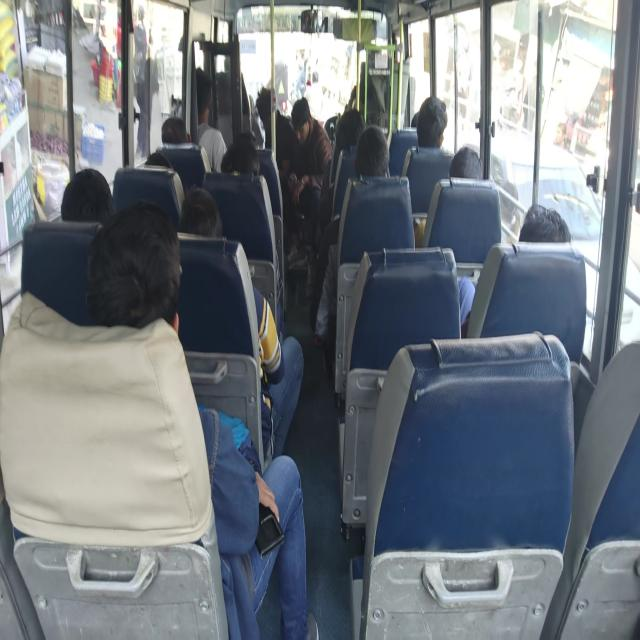person: (98, 232, 184, 326), (54, 162, 112, 217), (179, 181, 226, 243), (519, 209, 569, 261), (451, 148, 493, 202), (352, 136, 392, 182), (183, 71, 223, 117), (222, 143, 255, 185), (422, 87, 446, 143), (219, 41, 247, 80), (335, 106, 363, 144), (156, 113, 190, 144), (365, 27, 391, 65), (228, 124, 260, 154), (255, 90, 280, 124), (145, 144, 169, 178), (293, 103, 311, 142)
